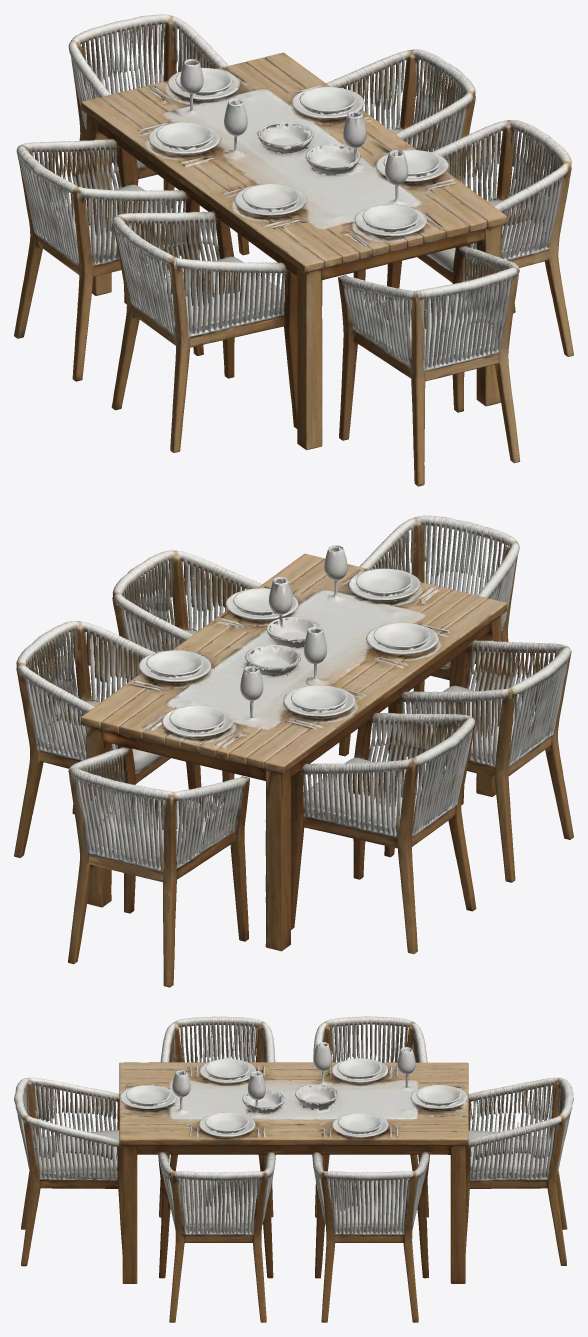
File: table-ext.glb
3 views of the same model, one above another, from view 1: azimuth 30°, elevation 25°; view 2: azimuth 150°, elevation 25°; view 3: azimuth 270°, elevation 25° (orthographic). The views are drawn at different scales.
Parts seen in each view (by area): view 1: tripo_node_3ffc8874-51b0-403b-967c-3b0b8b8ce474; view 2: tripo_node_3ffc8874-51b0-403b-967c-3b0b8b8ce474; view 3: tripo_node_3ffc8874-51b0-403b-967c-3b0b8b8ce474.
Boxes of the visible parts, box(x1,y1,x2,y2) form: tripo_node_3ffc8874-51b0-403b-967c-3b0b8b8ce474: box(14, 14, 573, 486); tripo_node_3ffc8874-51b0-403b-967c-3b0b8b8ce474: box(14, 515, 573, 987); tripo_node_3ffc8874-51b0-403b-967c-3b0b8b8ce474: box(14, 1016, 573, 1322).
Bounding box in the file's own units: 0.6648 × 0.3634 × 0.9815.
1 material, 1 textured.
